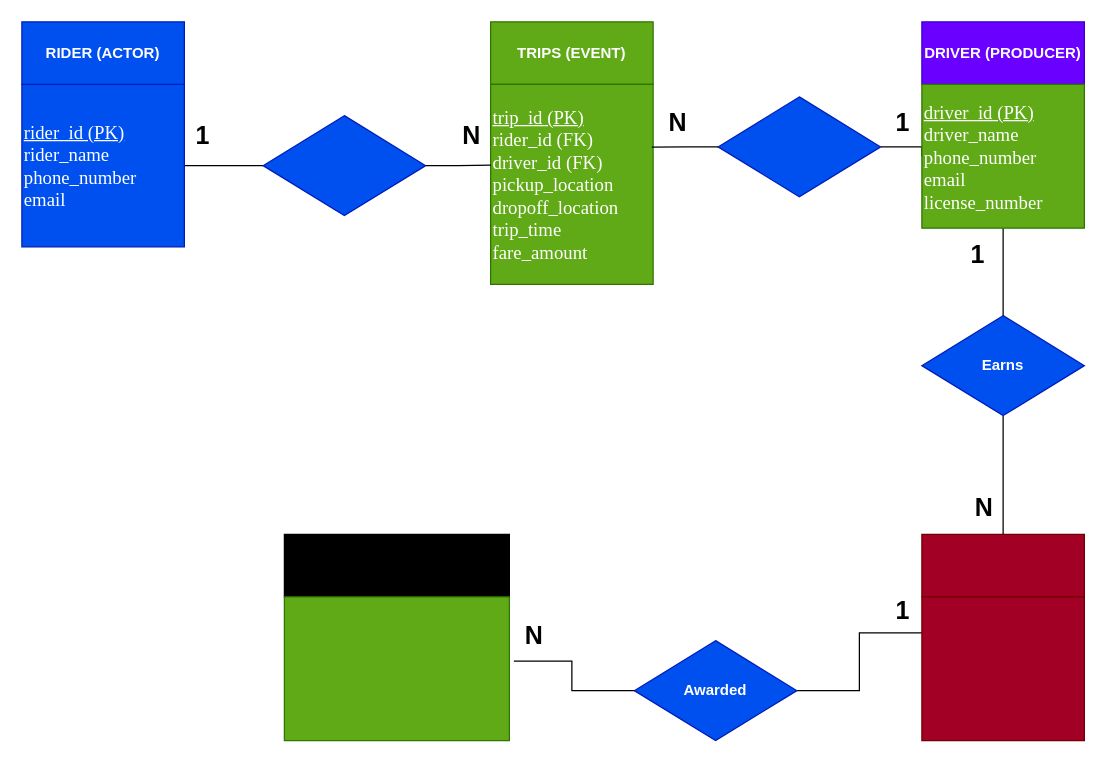
Image size: 1106x763. Some labels were removed from this diagram. The box of each missing label's shape, as (x1, y1, x2, y2) in pixels:
badge_id (PK) badge_name badge_description: (921, 596, 1084, 741)
DRIVER_BADGES (CATALOG): (921, 533, 1084, 597)
driver_id (PK, FK) badge_id (PK, FK) date_awarded: (283, 596, 509, 741)
Is driven by: (717, 96, 881, 197)
Schedules: (262, 114, 426, 216)
